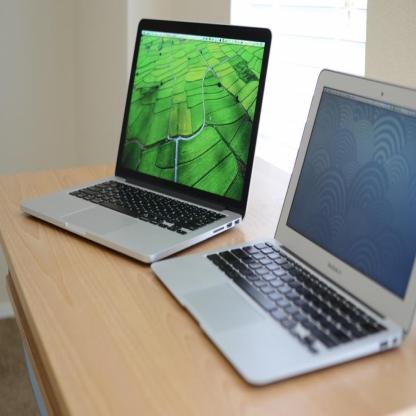board: (150, 69, 416, 390), (22, 23, 268, 282)
